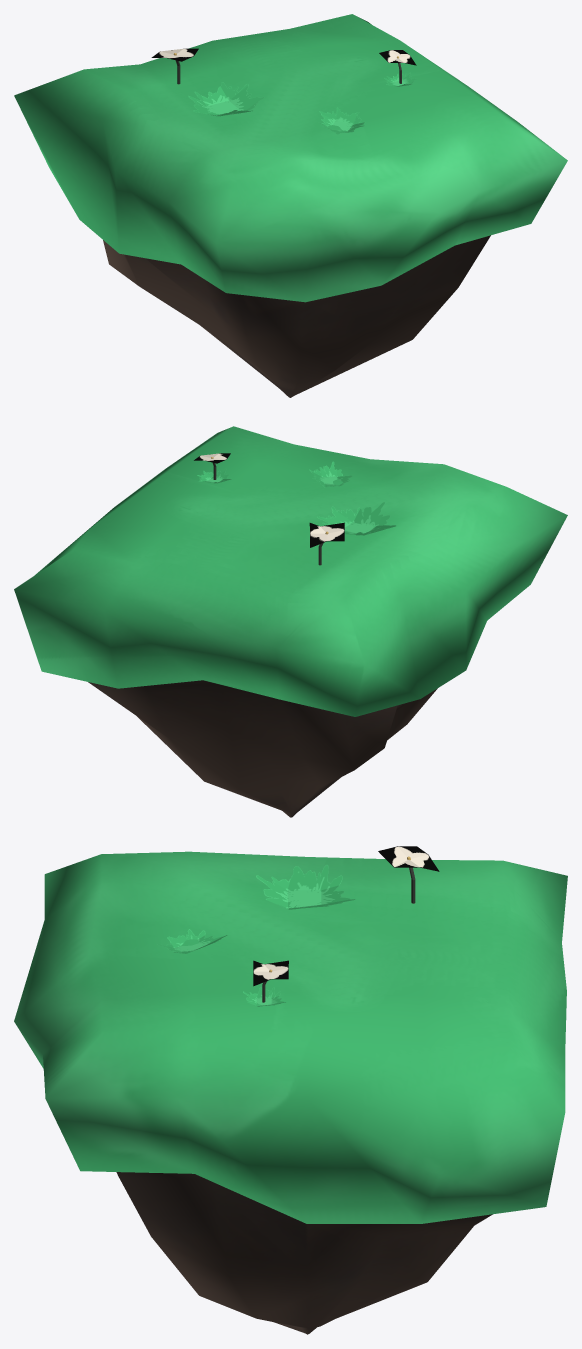
The model's file is Light_Platform_01.fbx.
The picture shows the model from 3 angles, top to bottom: view 1: azimuth 30°, elevation 25°; view 2: azimuth 150°, elevation 25°; view 3: azimuth 270°, elevation 25°; orthographic projection. The views are drawn at different scales.
Visible parts, largest first — view 1: 01_Light_Platform; view 2: 01_Light_Platform; view 3: 01_Light_Platform.
Part boxes in pixels (box(x1,y1,x2,y2)): 01_Light_Platform: box(14, 14, 567, 397); 01_Light_Platform: box(14, 426, 567, 817); 01_Light_Platform: box(14, 846, 567, 1334).
Bounding box in the file's own units: 290 × 242 × 281.
5 materials, 5 textured.
